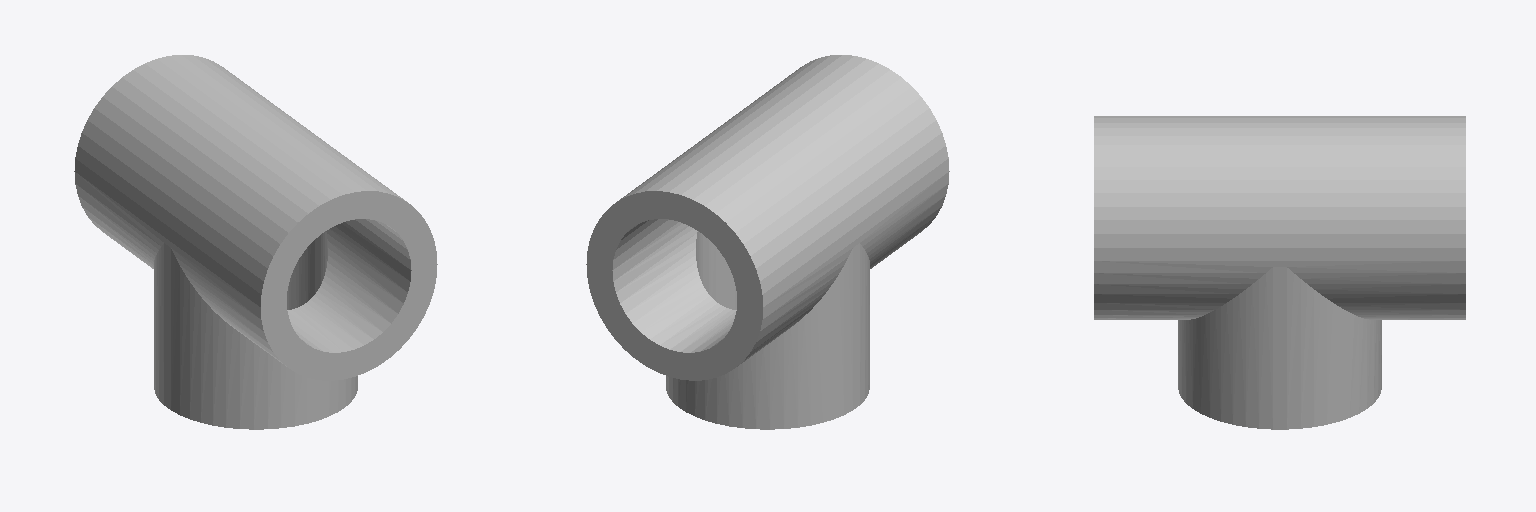
Rendered from good.obj.
The picture shows the model from 3 angles: view 1: azimuth 30°, elevation 25°; view 2: azimuth 150°, elevation 25°; view 3: azimuth 270°, elevation 25°; orthographic projection.
Parts seen in each view (by area): view 1: default; view 2: default; view 3: default.
Part boxes in pixels (bbox=[...]): default: bbox=[74, 55, 437, 429]; default: bbox=[586, 55, 949, 429]; default: bbox=[1094, 116, 1465, 429].
Size of the model in its own units: 17 by 23.98 by 31.